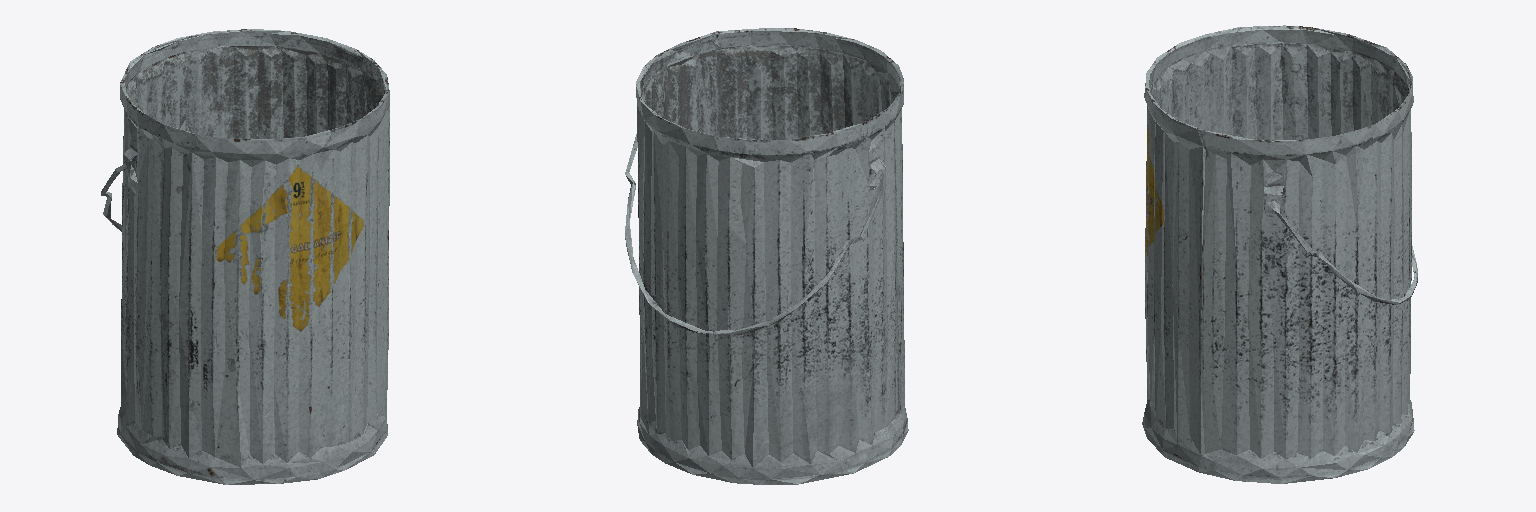
3 views of the same model, side by side, from view 1: azimuth 30°, elevation 25°; view 2: azimuth 150°, elevation 25°; view 3: azimuth 270°, elevation 25° (orthographic).
Visible parts, largest first — view 1: ucmndaefa_LOD0_TIER3_000; view 2: ucmndaefa_LOD0_TIER3_000; view 3: ucmndaefa_LOD0_TIER3_000.
Part boxes in pixels (bbox=[...]): ucmndaefa_LOD0_TIER3_000: bbox=[101, 29, 389, 484]; ucmndaefa_LOD0_TIER3_000: bbox=[625, 28, 908, 484]; ucmndaefa_LOD0_TIER3_000: bbox=[1142, 25, 1417, 483].
Bounding box in the file's own units: 0.3674 × 0.4778 × 0.3434.
Materials: 1 (1 with a texture image).